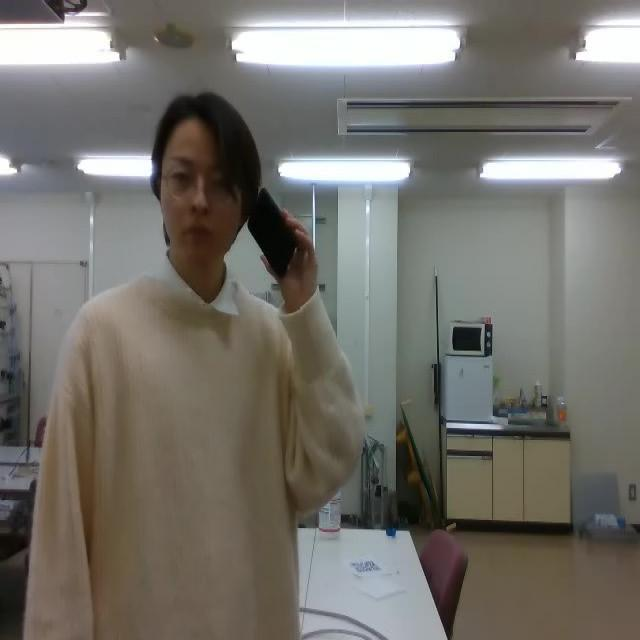Phone: (246, 184, 298, 280)
